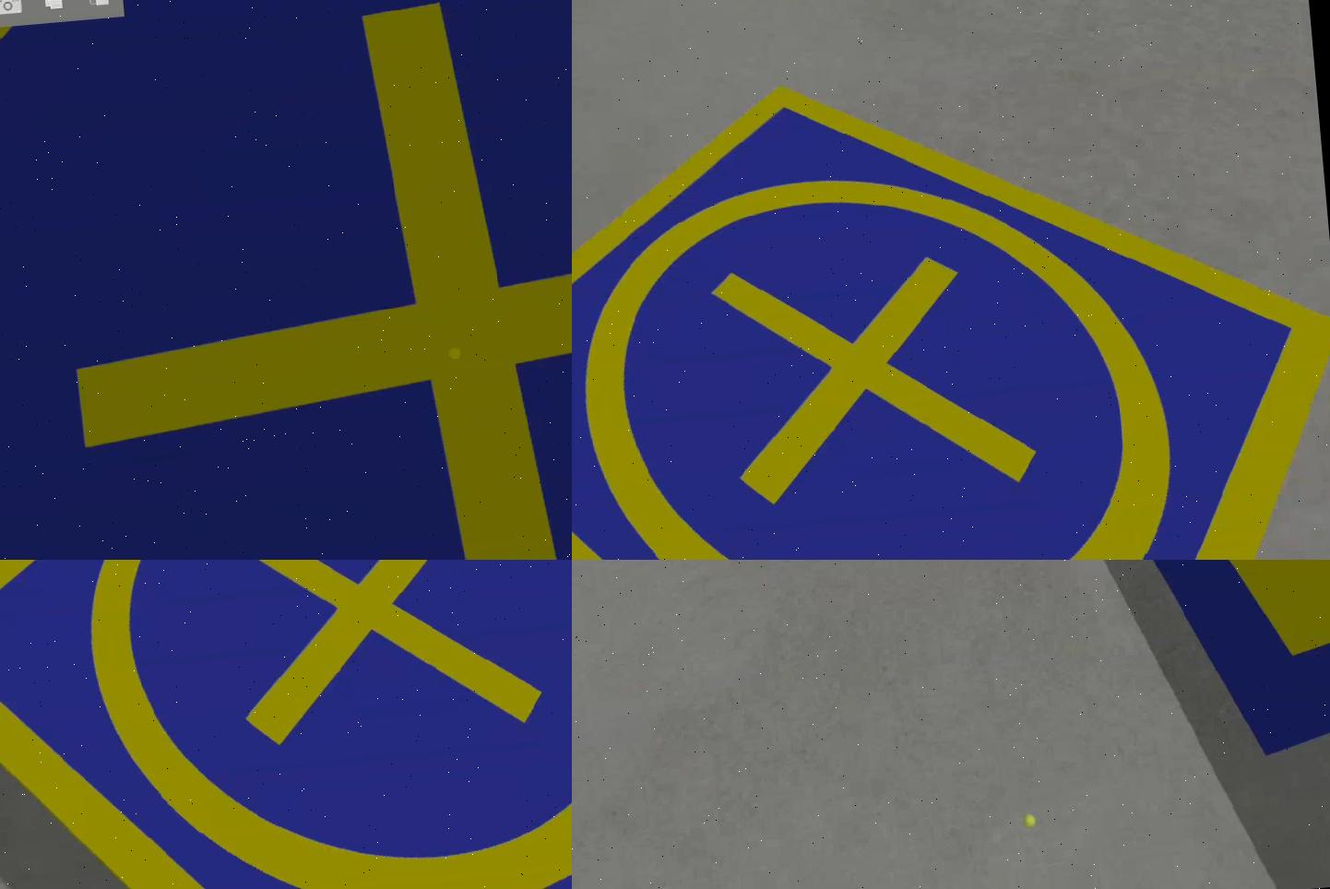large_base: (1, 1, 573, 561), (1021, 561, 1330, 776)
small_base: (573, 34, 1330, 561), (1, 561, 573, 889)
